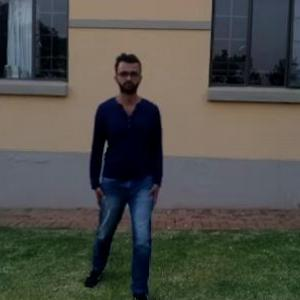follow: (96, 55, 165, 293)
